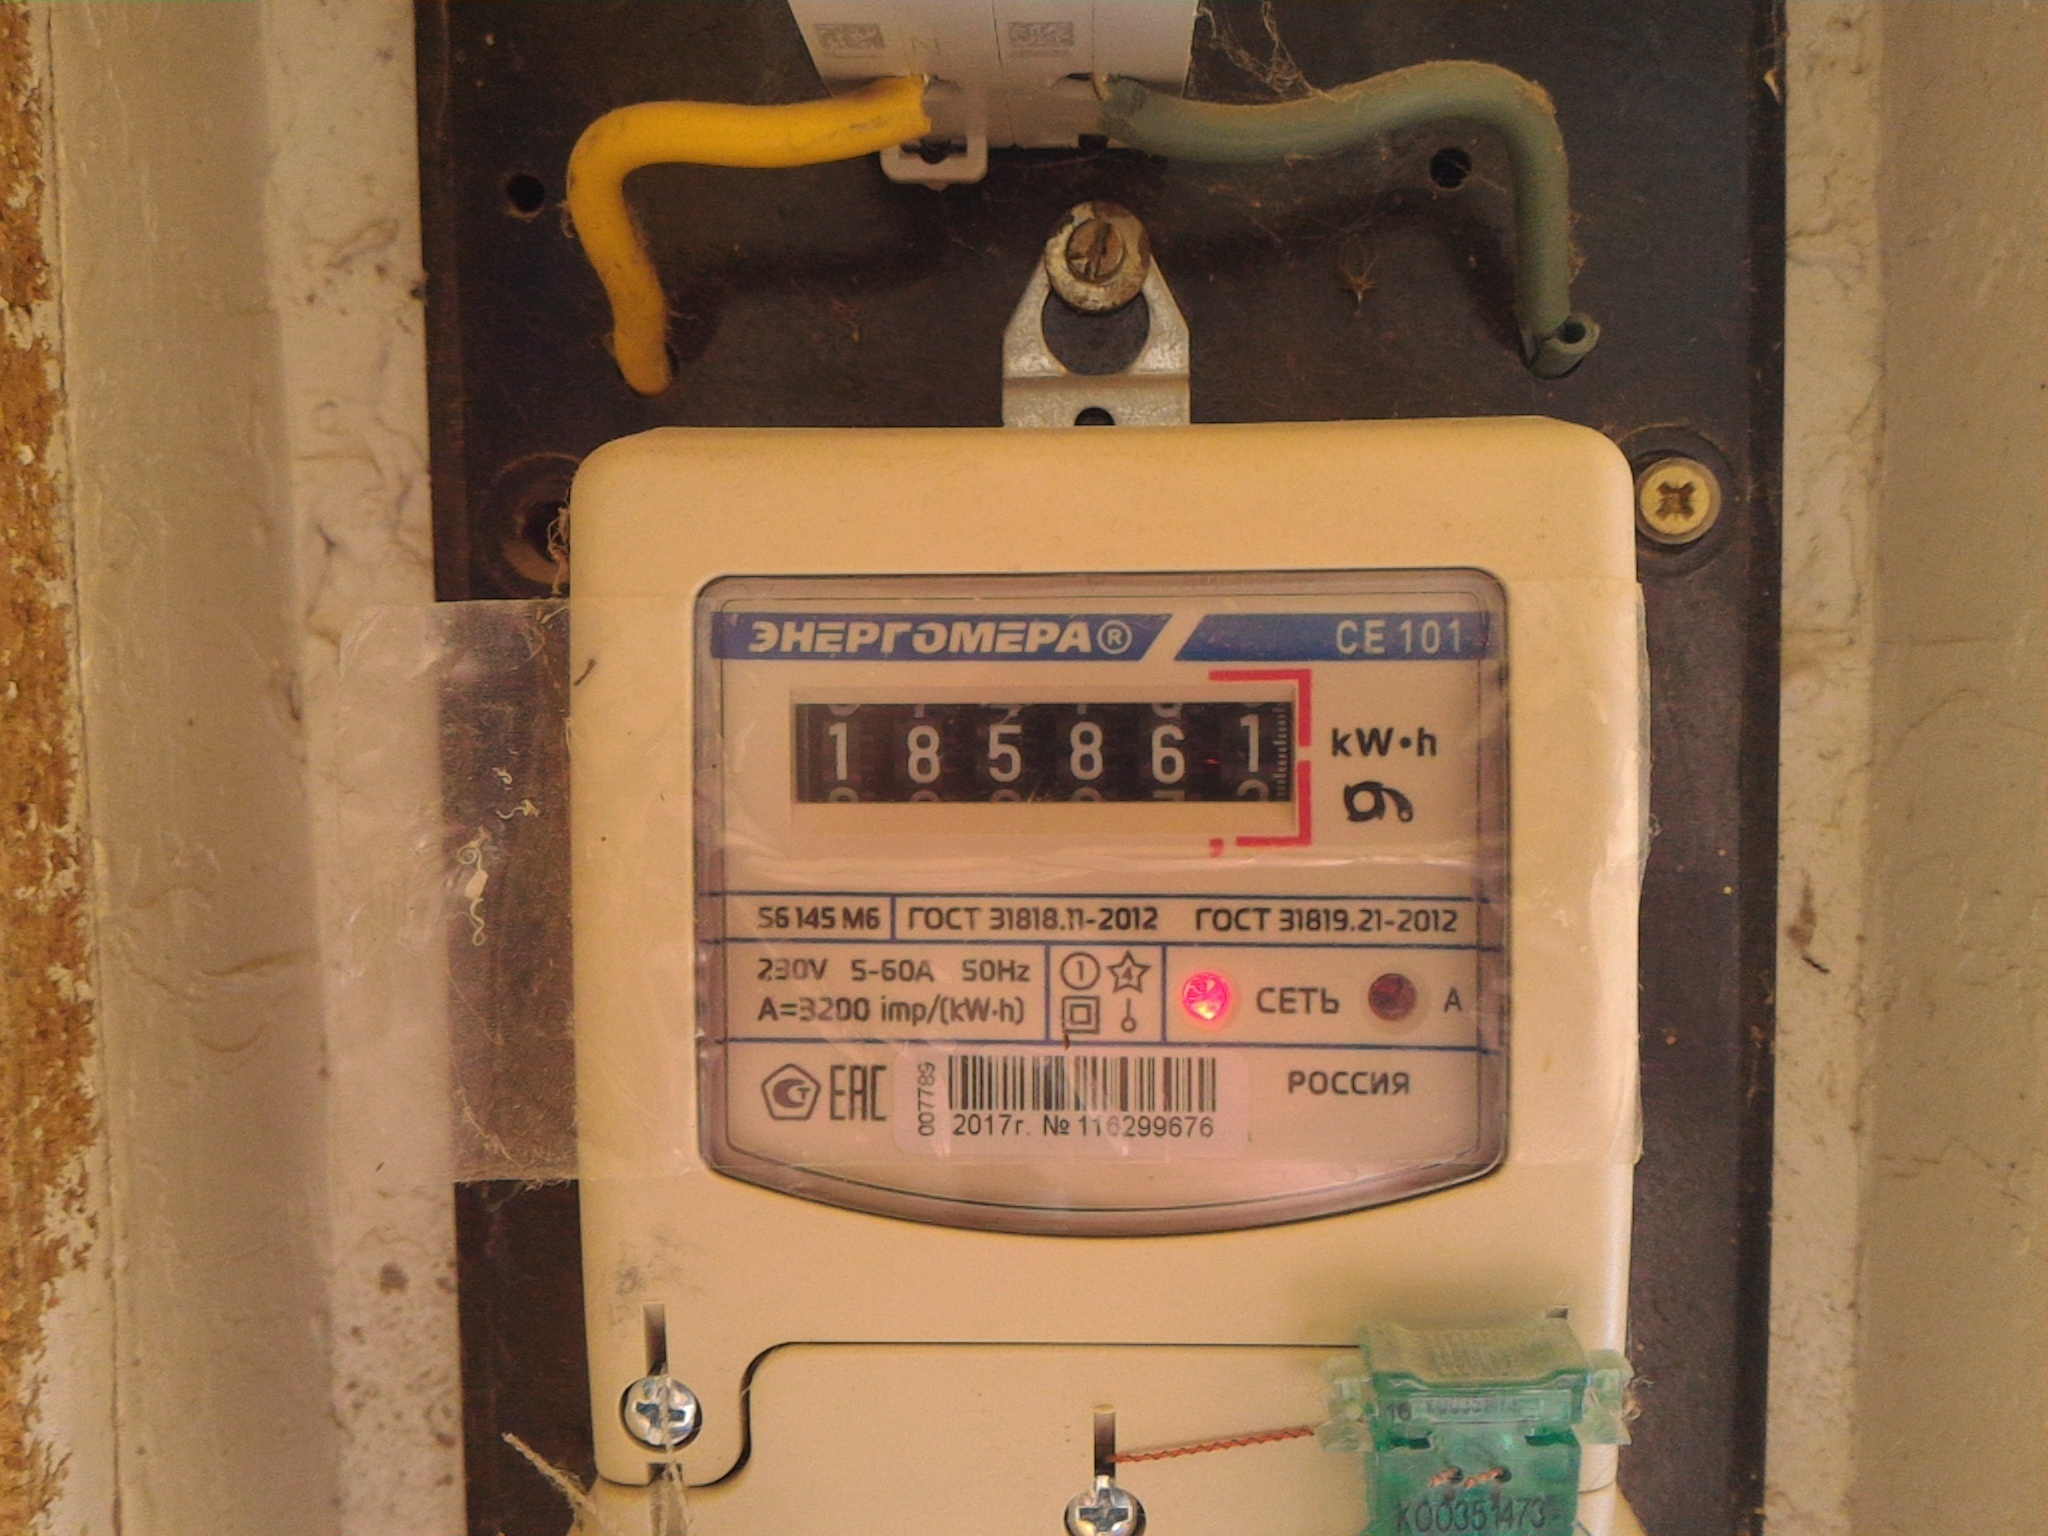1: (819, 715, 861, 786), (1230, 708, 1272, 779)
5: (980, 716, 1030, 787)
6: (1147, 720, 1193, 787)
8: (900, 718, 947, 791), (1063, 716, 1109, 787)
screen: (776, 682, 1314, 821)
